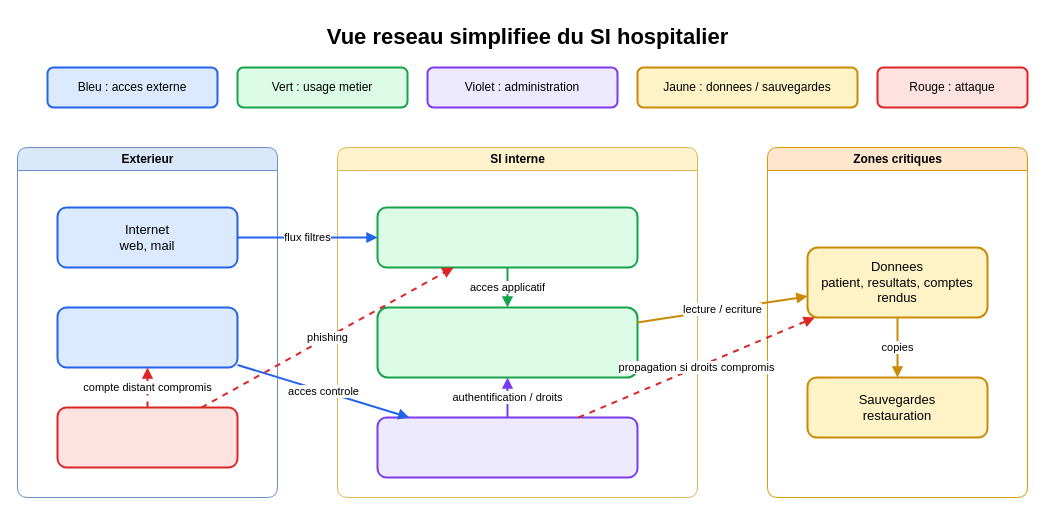
Image size: 1046x515. Some labels were removed from this diagram. Each missing label, with the centre of its shape:
"Acces distant VPN, prestataires" belongs at point (147, 337).
"Administration SI AD, comptes, droits" belongs at point (507, 447).
"Applications metiers DPI, prescriptions, labo, imagerie" belongs at point (507, 342).
"Attaquant phishing ou acces compromis" belongs at point (147, 437).
"Reseau utilisateurs soins, accueil, pharmacie" belongs at point (507, 237).
